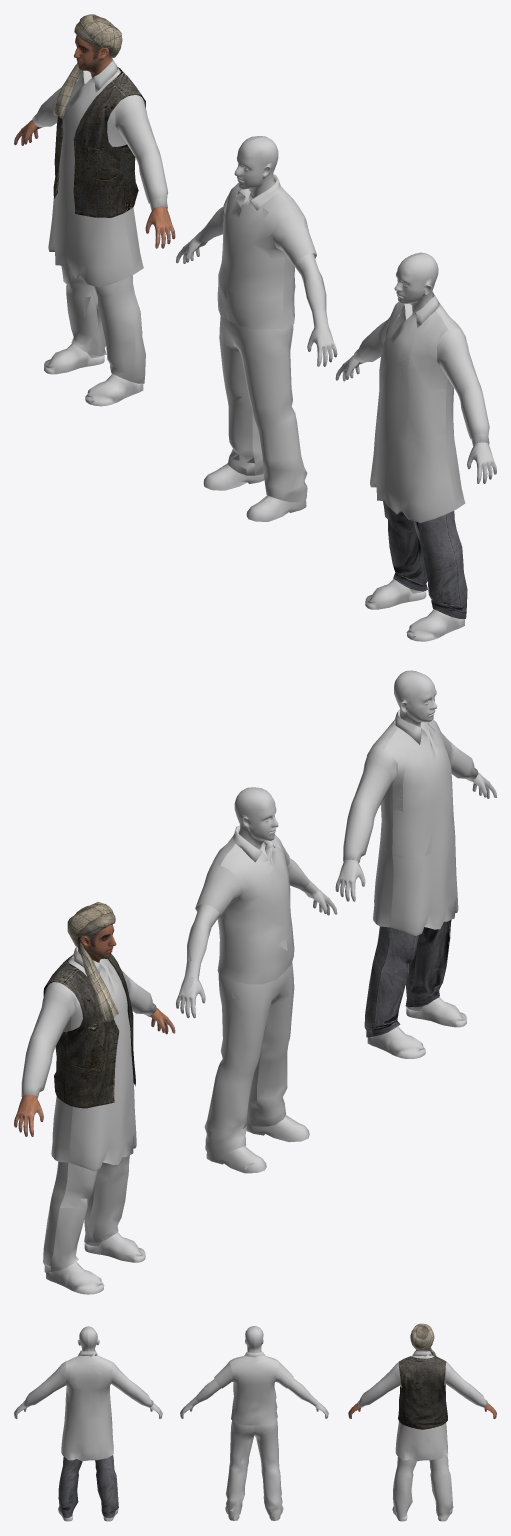
The model's file is LybiaCivilians01.obj.
3 renders of one model, top to bottom at view 1: azimuth 30°, elevation 25°; view 2: azimuth 150°, elevation 25°; view 3: azimuth 270°, elevation 25°, orthographic. The views are drawn at different scales.
Parts seen in each view (by area): view 1: Mesh_0095, Mesh_0125, Mesh_0114, Mesh_0118, Mesh_0089, Mesh_0126, Mesh_0091, Mesh_0096, Mesh_0116, Mesh_0087, Mesh_0097, Mesh_0092 (+4 smaller); view 2: Mesh_0095, Mesh_0125, Mesh_0114, Mesh_0118, Mesh_0089, Mesh_0126, Mesh_0091, Mesh_0096, Mesh_0087, Mesh_0116, Mesh_0124, Mesh_0117 (+4 smaller); view 3: Mesh_0095, Mesh_0118, Mesh_0114, Mesh_0125, Mesh_0126, Mesh_0089, Mesh_0096, Mesh_0091, Mesh_0116, Mesh_0117, Mesh_0087, Mesh_0124.
Boxes of the visible parts, x1=… form: Mesh_0095: x1=354, y1=292, x2=488, y2=522; Mesh_0125: x1=32, y1=58, x2=167, y2=287; Mesh_0114: x1=219, y1=316, x2=307, y2=502; Mesh_0118: x1=217, y1=174, x2=316, y2=329; Mesh_0089: x1=355, y1=293, x2=489, y2=518; Mesh_0126: x1=53, y1=67, x2=145, y2=217; Mesh_0091: x1=61, y1=265, x2=145, y2=383; Mesh_0096: x1=383, y1=501, x2=467, y2=618; Mesh_0116: x1=183, y1=136, x2=337, y2=366; Mesh_0087: x1=335, y1=252, x2=496, y2=483; Mesh_0097: x1=44, y1=343, x2=143, y2=406; Mesh_0092: x1=365, y1=579, x2=464, y2=641; Mesh_0095: x1=343, y1=709, x2=478, y2=935; Mesh_0125: x1=21, y1=946, x2=156, y2=1171; Mesh_0114: x1=204, y1=962, x2=294, y2=1155; Mesh_0118: x1=195, y1=825, x2=294, y2=984; Mesh_0089: x1=343, y1=712, x2=462, y2=931; Mesh_0126: x1=43, y1=954, x2=135, y2=1108; Mesh_0091: x1=43, y1=1155, x2=129, y2=1272; Mesh_0096: x1=364, y1=920, x2=451, y2=1037; Mesh_0087: x1=335, y1=670, x2=496, y2=901; Mesh_0116: x1=176, y1=787, x2=337, y2=1018; Mesh_0124: x1=67, y1=902, x2=118, y2=1021; Mesh_0117: x1=178, y1=858, x2=309, y2=1018; Mesh_0095: x1=26, y1=1350, x2=149, y2=1461; Mesh_0118: x1=214, y1=1351, x2=293, y2=1425; Mesh_0114: x1=226, y1=1420, x2=282, y2=1516; Mesh_0125: x1=357, y1=1350, x2=487, y2=1461; Mesh_0126: x1=398, y1=1355, x2=447, y2=1429; Mesh_0089: x1=23, y1=1350, x2=153, y2=1461; Mesh_0096: x1=58, y1=1455, x2=118, y2=1518; Mesh_0091: x1=393, y1=1455, x2=453, y2=1518; Mesh_0116: x1=180, y1=1326, x2=328, y2=1418; Mesh_0117: x1=195, y1=1379, x2=328, y2=1416; Mesh_0087: x1=14, y1=1326, x2=162, y2=1418; Mesh_0124: x1=410, y1=1323, x2=436, y2=1356.
Size of the model in its own units: 3452 by 17864 by 41196.
